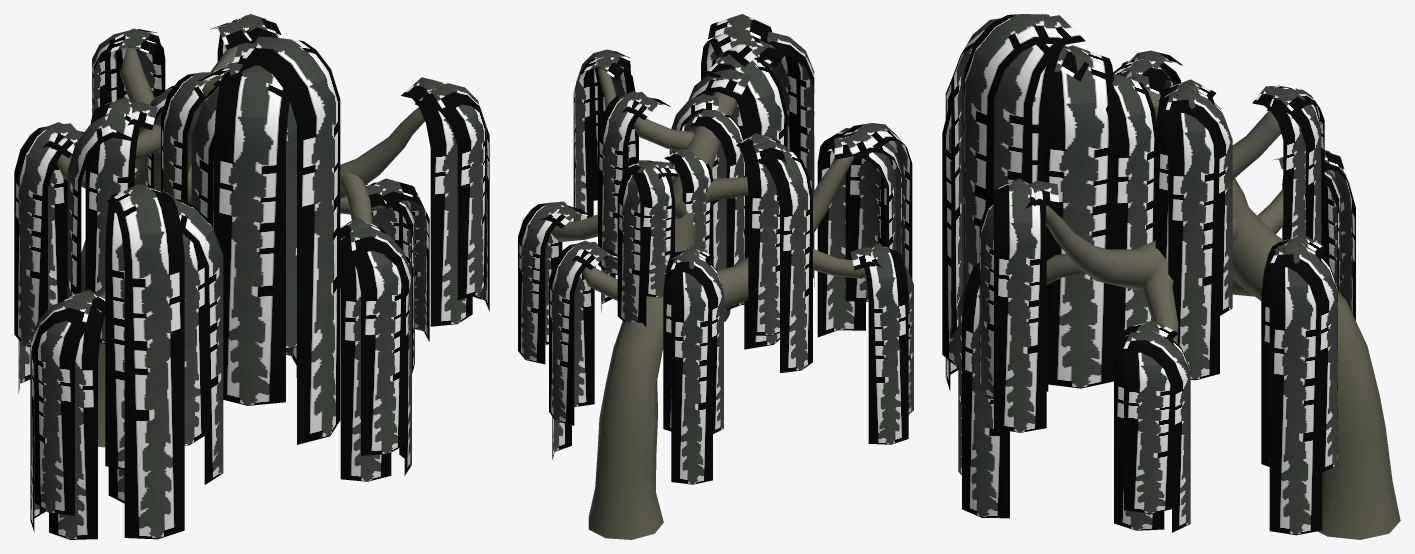
The model's file is Coast Tree Willow 2.fbx.
The picture shows the model from 3 angles, left to right: view 1: azimuth 30°, elevation 25°; view 2: azimuth 150°, elevation 25°; view 3: azimuth 270°, elevation 25°; orthographic projection. The views are drawn at different scales.
Visible parts, largest first — view 1: Willow Leaning_LOD0; view 2: Willow Leaning_LOD0; view 3: Willow Leaning_LOD0.
Part boxes in pixels (x1,y1,x2,y2): Willow Leaning_LOD0: [14, 14, 489, 539]; Willow Leaning_LOD0: [518, 14, 913, 539]; Willow Leaning_LOD0: [942, 14, 1400, 539].
Size of what is drawn, in the model's own units: 1138 by 1270 by 1022.
